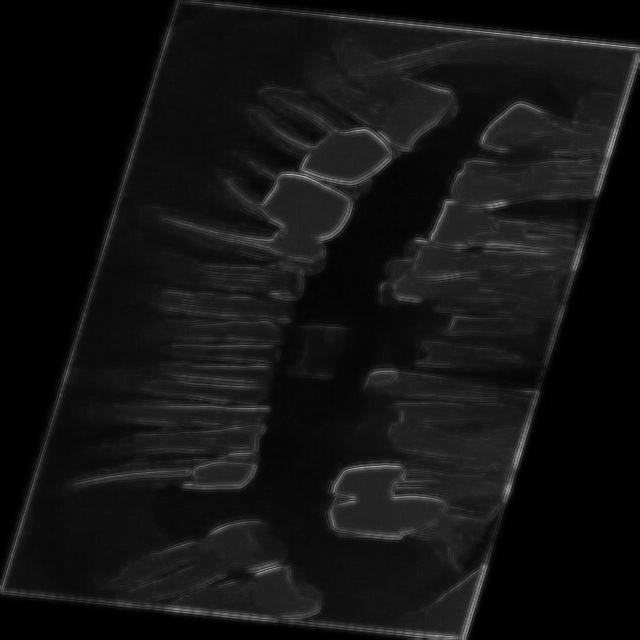Class 0- No endodontic treatment: (202, 68, 480, 186), (30, 418, 300, 536), (108, 200, 352, 278)
Class 1- complete endodontic treatment: (287, 440, 511, 570), (174, 144, 410, 244)
cavity: (96, 275, 330, 415), (396, 291, 552, 392)
